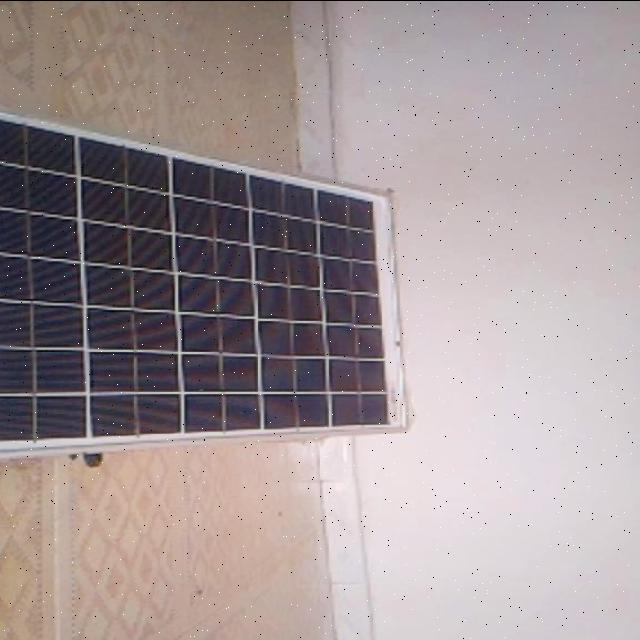Normal Solar Panel: (0, 106, 403, 460)
